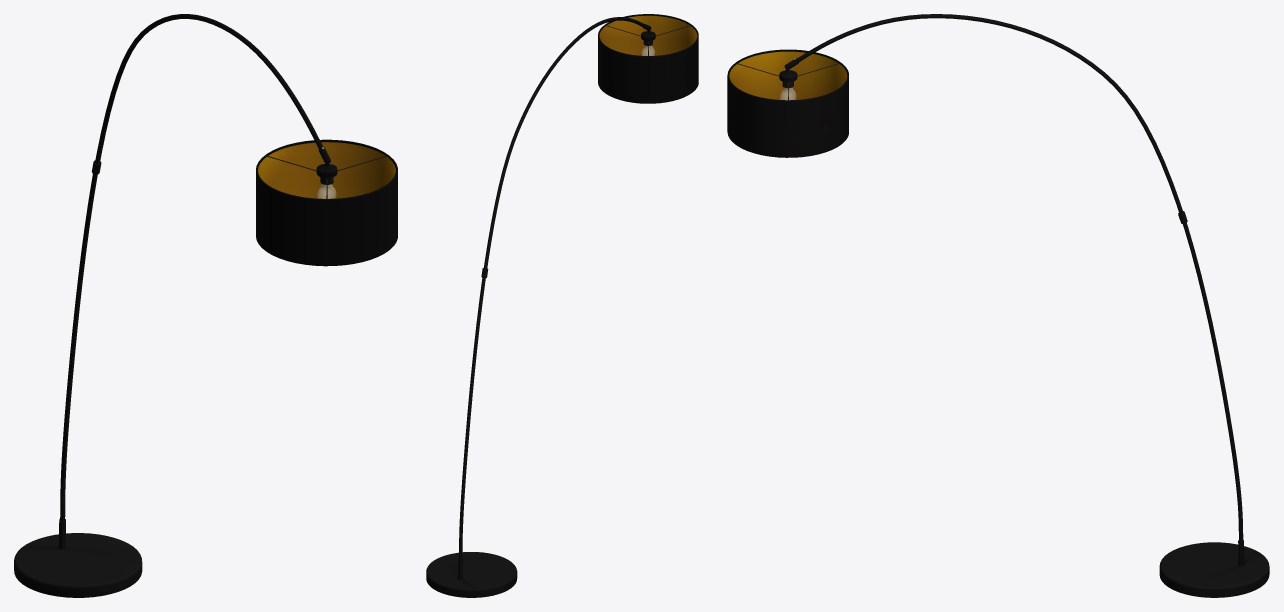
File: floor_lamp.glb
The picture shows the model from 3 angles, left to right: view 1: azimuth 30°, elevation 25°; view 2: azimuth 150°, elevation 25°; view 3: azimuth 270°, elevation 25°; orthographic projection. The views are drawn at different scales.
Parts seen in each view (by area): view 1: STEEL_MATT_GREY, LAMP_SHADE, COPPER; view 2: STEEL_MATT_GREY, LAMP_SHADE, COPPER; view 3: STEEL_MATT_GREY, LAMP_SHADE, COPPER.
Part boxes in pixels (box(x1,y1,x2,y2)): STEEL_MATT_GREY: box(14, 14, 337, 597); LAMP_SHADE: box(256, 139, 397, 266); COPPER: box(258, 142, 395, 198); STEEL_MATT_GREY: box(426, 17, 655, 597); LAMP_SHADE: box(598, 14, 698, 103); COPPER: box(599, 15, 697, 55); STEEL_MATT_GREY: box(779, 14, 1269, 597); LAMP_SHADE: box(727, 49, 848, 157); COPPER: box(729, 51, 847, 100).
Bounding box in the file's own units: 0.4 × 2.04 × 1.78.
Materials: 7 (5 with a texture image).
